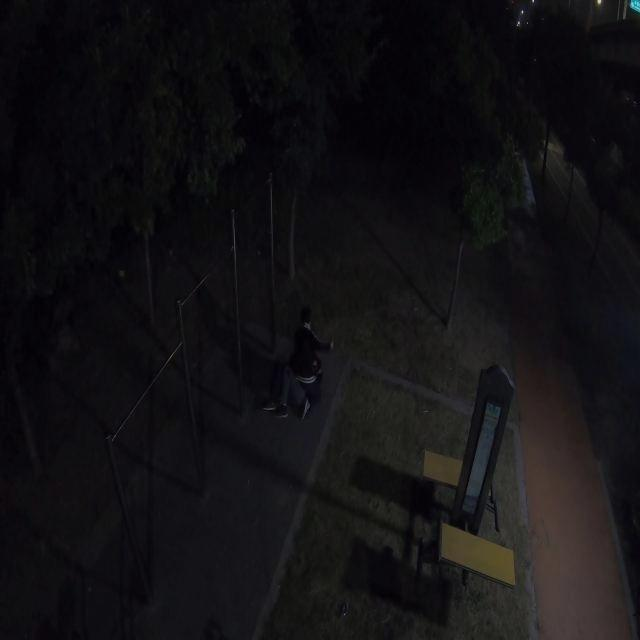fight: (259, 314, 334, 421)
